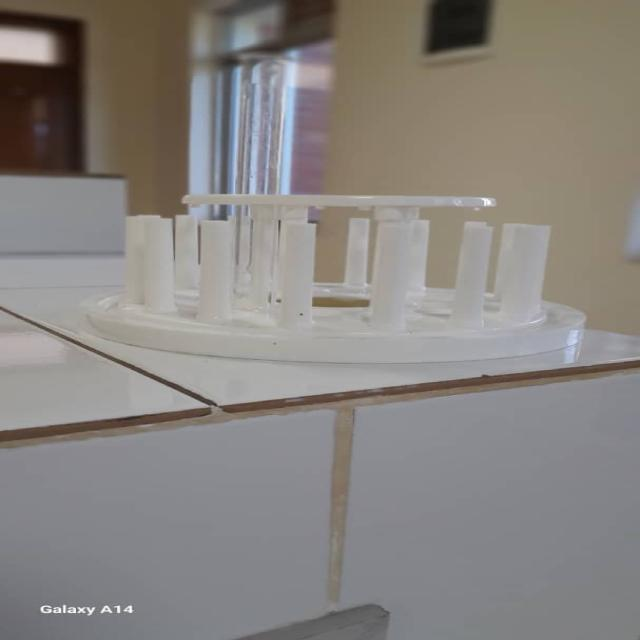Test Tube Racks: (74, 184, 591, 375)
